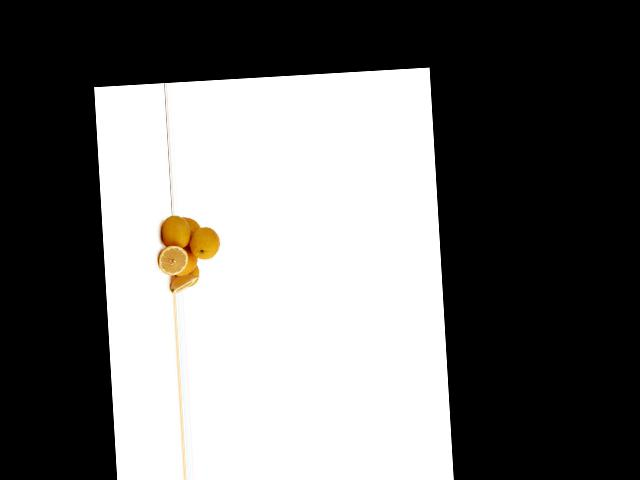lemon: (158, 215, 196, 252)
